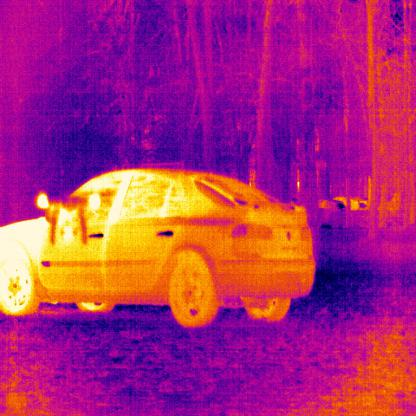drone: (36, 190, 100, 242)
